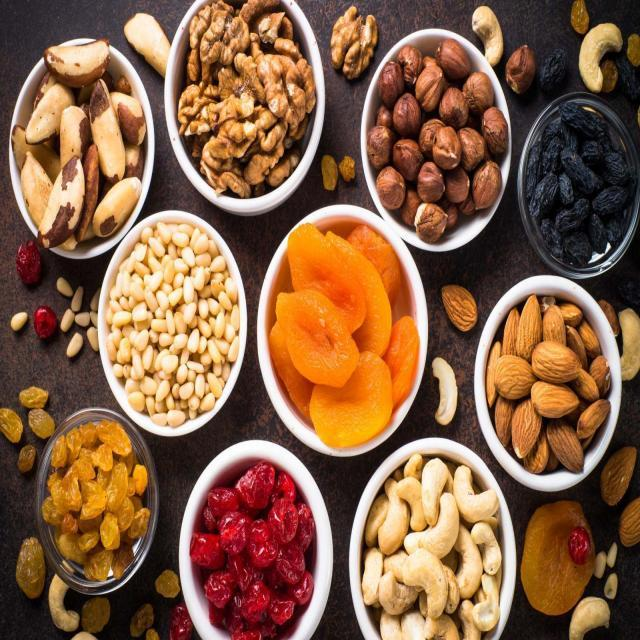Frutta secca: (8, 34, 148, 260), (355, 453, 498, 640), (368, 41, 496, 222), (102, 238, 229, 418), (192, 4, 309, 198), (496, 292, 611, 472), (333, 7, 376, 66), (431, 357, 462, 429), (441, 280, 481, 334), (471, 10, 506, 64), (509, 49, 533, 95)
